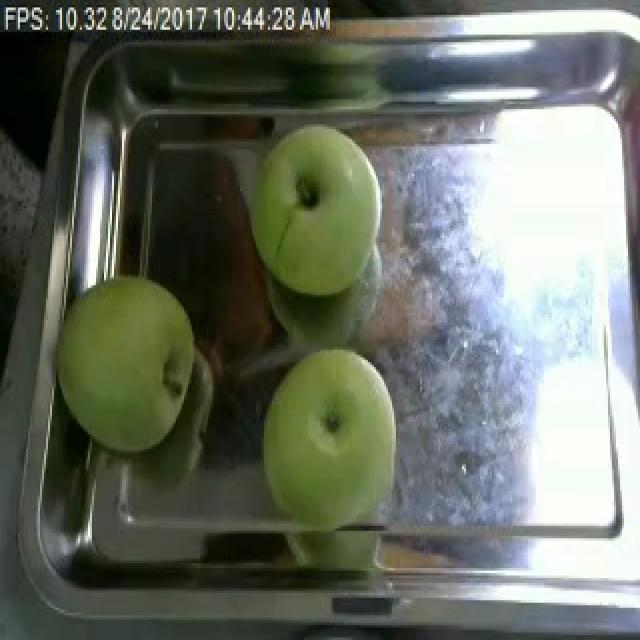50-_ripeness: (238, 330, 438, 546), (47, 264, 206, 465), (236, 99, 396, 293)
